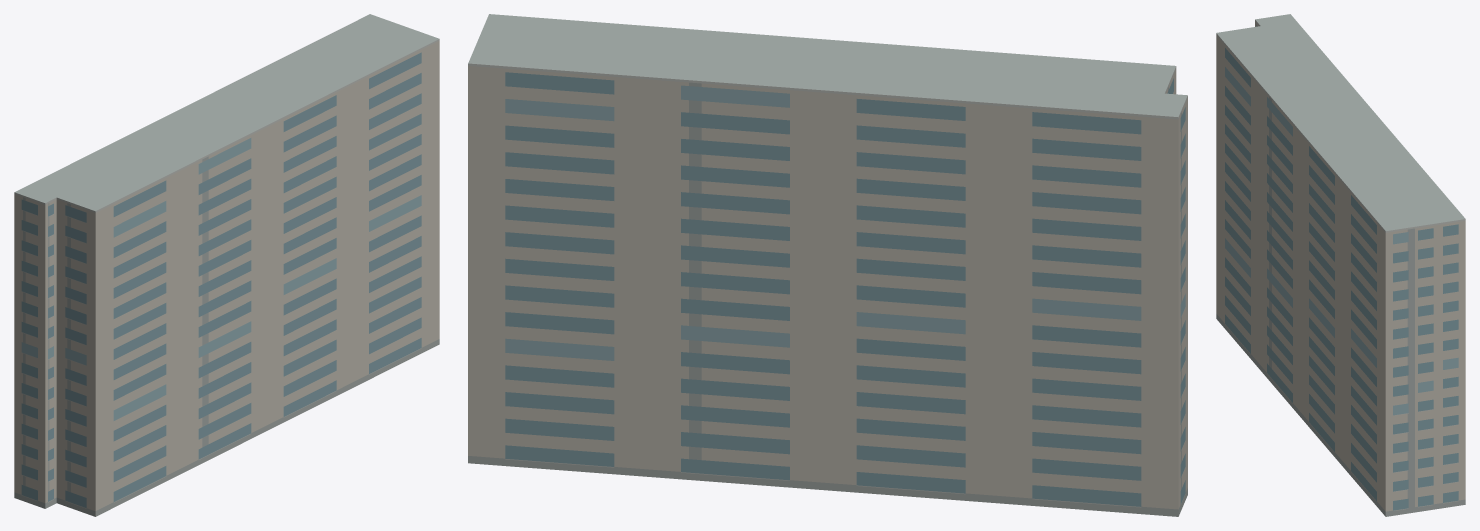
The model's file is residential-42a73477-2b24-44c1-a85a-c78dfe5566aa.glb.
The picture shows the model from 3 angles, left to right: view 1: azimuth 30°, elevation 25°; view 2: azimuth 150°, elevation 25°; view 3: azimuth 270°, elevation 25°; orthographic projection. The views are drawn at different scales.
Parts seen in each view (by area): view 1: residential-42a73477-2b24-44c1-a85a-c78dfe5566aa.tmp; view 2: residential-42a73477-2b24-44c1-a85a-c78dfe5566aa.tmp; view 3: residential-42a73477-2b24-44c1-a85a-c78dfe5566aa.tmp.
Part boxes in pixels (left/top/right/bottom): residential-42a73477-2b24-44c1-a85a-c78dfe5566aa.tmp: left=14, top=14, right=439, bottom=516; residential-42a73477-2b24-44c1-a85a-c78dfe5566aa.tmp: left=468, top=14, right=1187, bottom=516; residential-42a73477-2b24-44c1-a85a-c78dfe5566aa.tmp: left=1216, top=14, right=1465, bottom=516.
Size of the model in its own units: 66.85 by 41 by 32.46.
